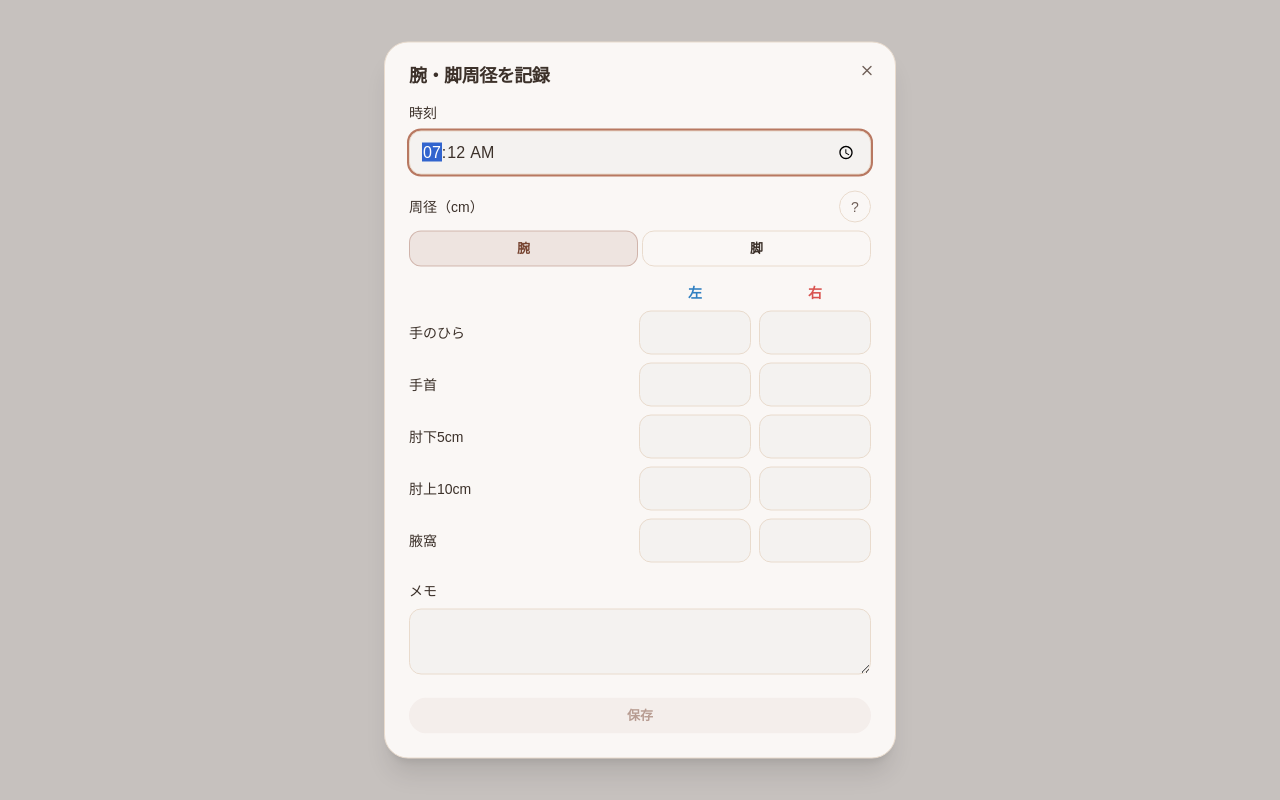
ModuleRecordDialog › circumference › shows the arm help when the arm is selected
Click the button named "測る位置の説明".
click(855, 206)  # box [839,190,871,222]
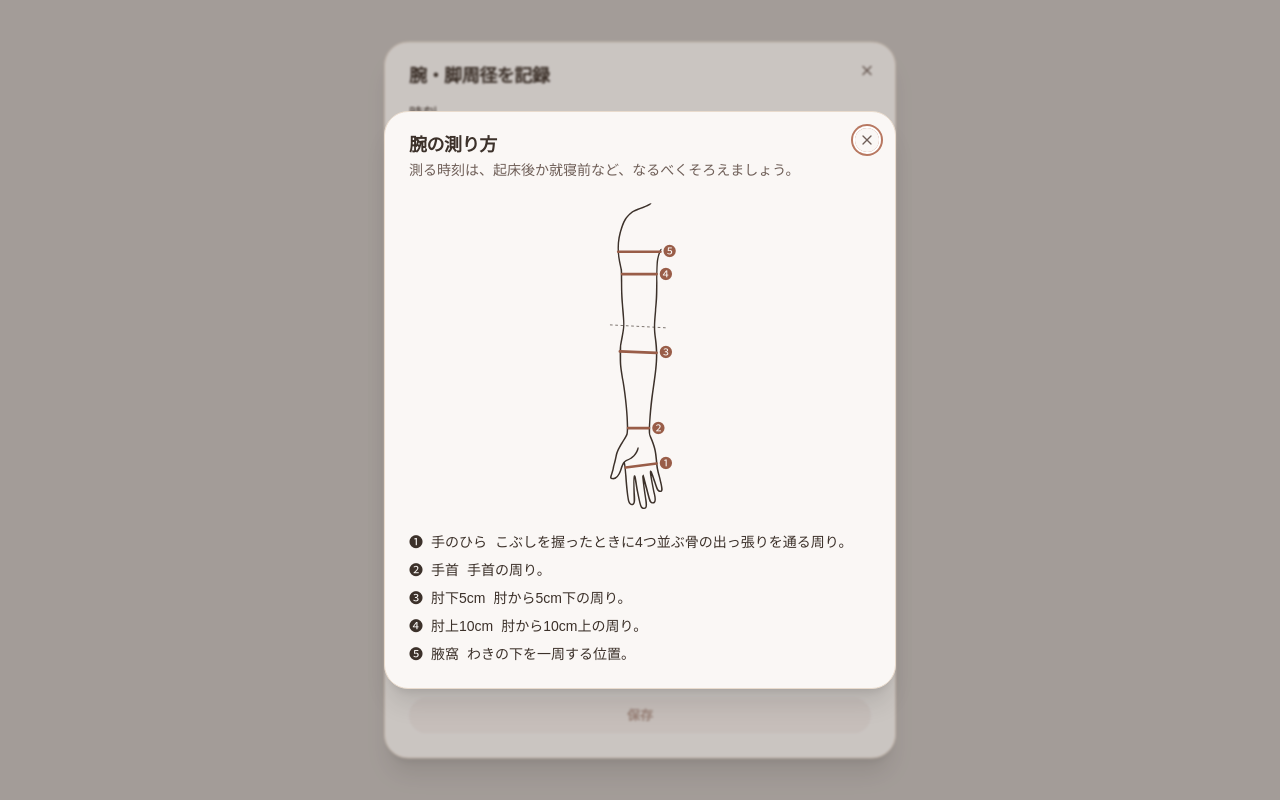
Now the text "こぶしを握ったときに4つ並ぶ骨の出っ張りを通る周り。" is shown, box [495,534,852,550]
